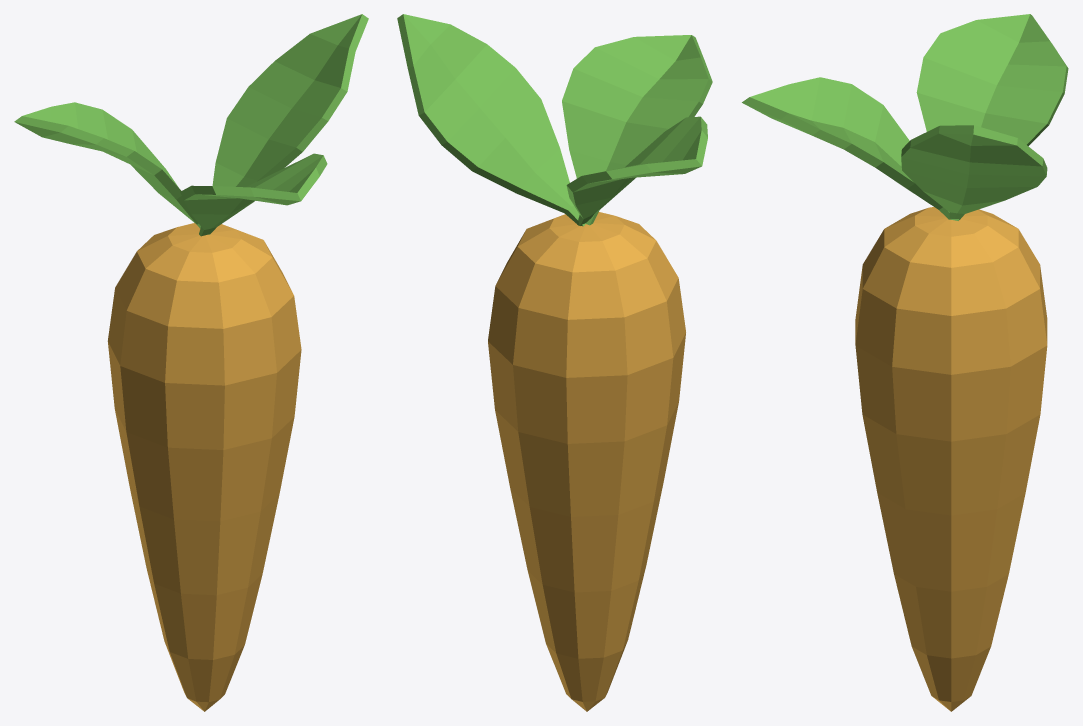
File: O_Clutter_VeggyCarrot_2.fbx
3 renders of one model, left to right at view 1: azimuth 30°, elevation 25°; view 2: azimuth 150°, elevation 25°; view 3: azimuth 270°, elevation 25°, orthographic. The views are drawn at different scales.
Parts seen in each view (by area): view 1: polySurface5; view 2: polySurface5; view 3: polySurface5.
Part boxes in pixels (x1,y1,x2,y2): polySurface5: (14,14,368,711); polySurface5: (397,14,712,711); polySurface5: (742,14,1068,711).
Bounding box in the file's own units: 0.5132 × 0.9747 × 0.4299.
